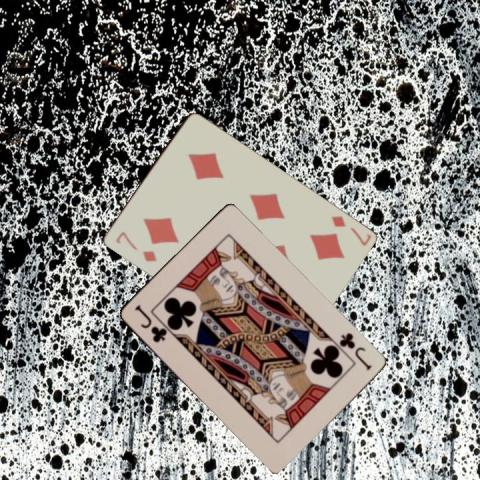7d: (112, 228, 158, 263), (327, 213, 372, 247)
Jc: (335, 329, 373, 372), (132, 302, 168, 344)
